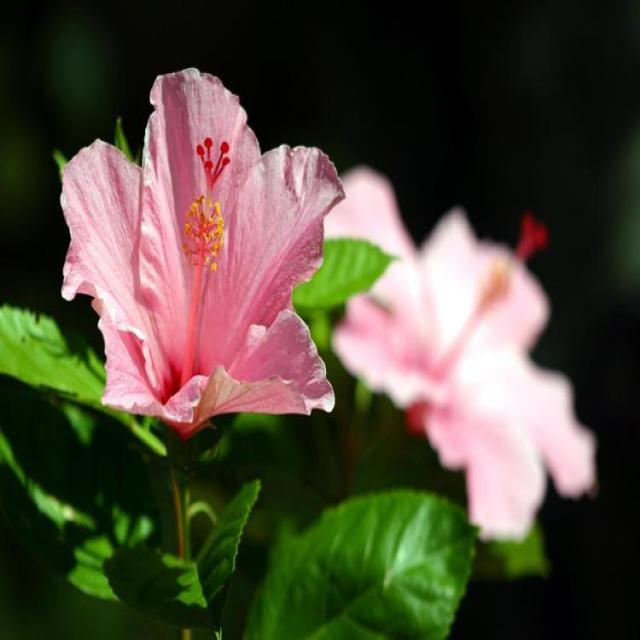hibiscus: (41, 23, 393, 465)
